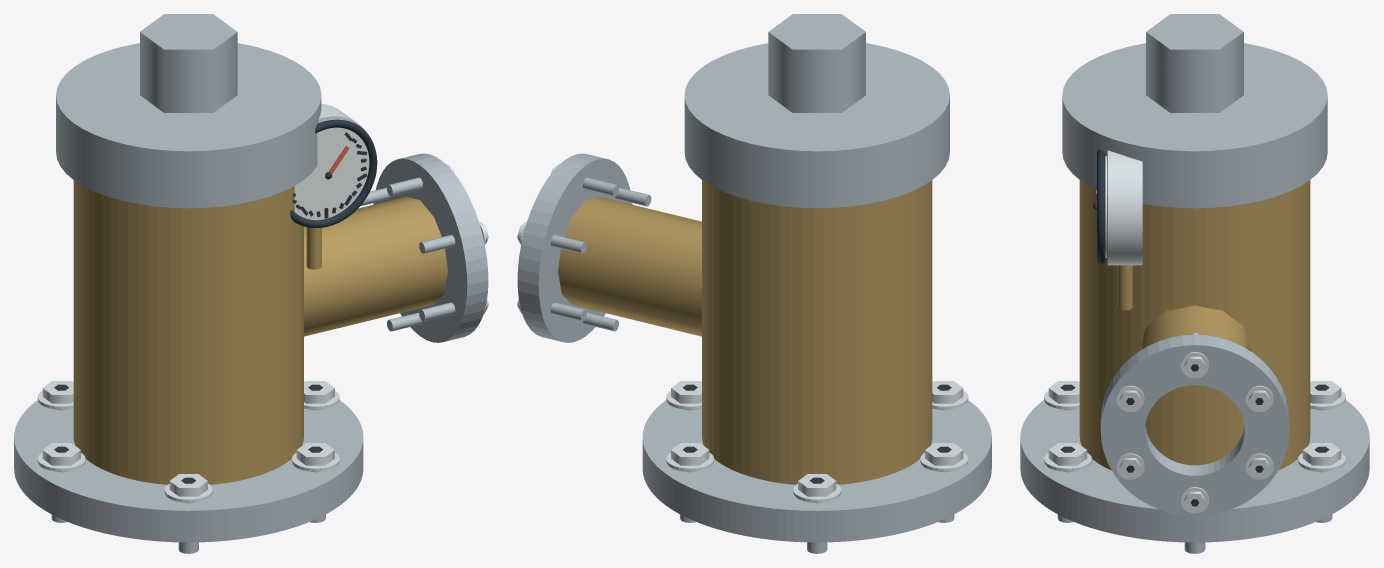
Rendered from minimum.glb.
The picture shows the model from 3 angles, left to right: view 1: azimuth 30°, elevation 25°; view 2: azimuth 150°, elevation 25°; view 3: azimuth 270°, elevation 25°; orthographic projection.
Visible parts, largest first — view 1: Thân van, Nắp lò xo; view 2: Thân van, Nắp lò xo; view 3: Thân van, Nắp lò xo.
Boxes of the visible parts, left/top/right/bottom form: Thân van: left=14, top=103, right=488, bottom=553; Nắp lò xo: left=56, top=14, right=321, bottom=208; Thân van: left=517, top=153, right=991, bottom=553; Nắp lò xo: left=684, top=14, right=949, bottom=208; Thân van: left=1020, top=149, right=1369, bottom=553; Nắp lò xo: left=1062, top=14, right=1327, bottom=208.
Size of the model in its own units: 1.37 by 1.44 by 1.
